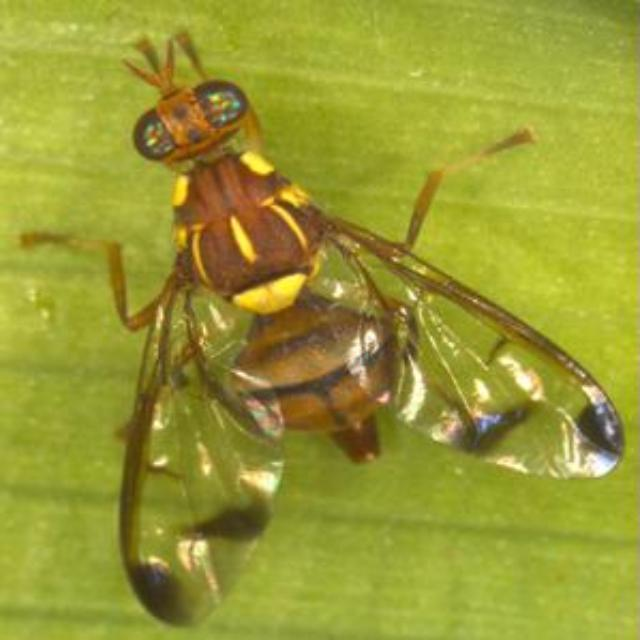melon fly: (20, 20, 640, 640)
